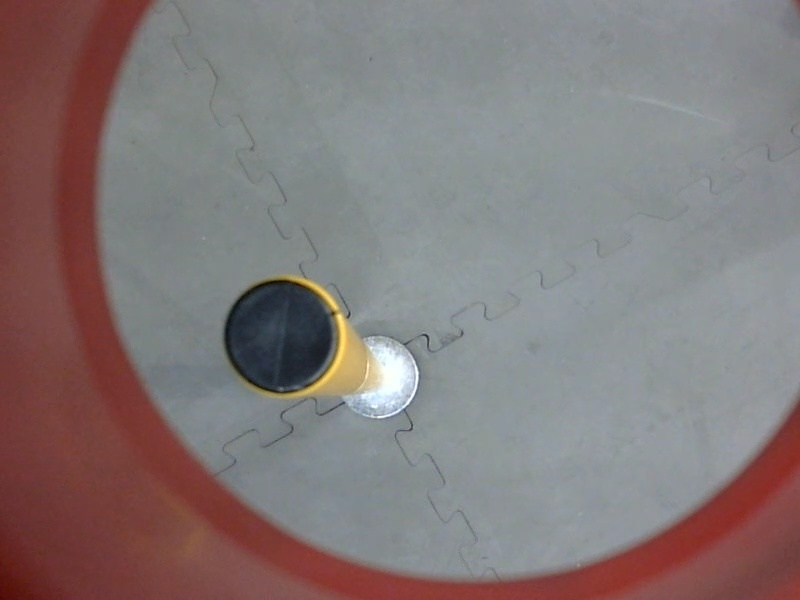tip: (216, 270, 354, 408)
